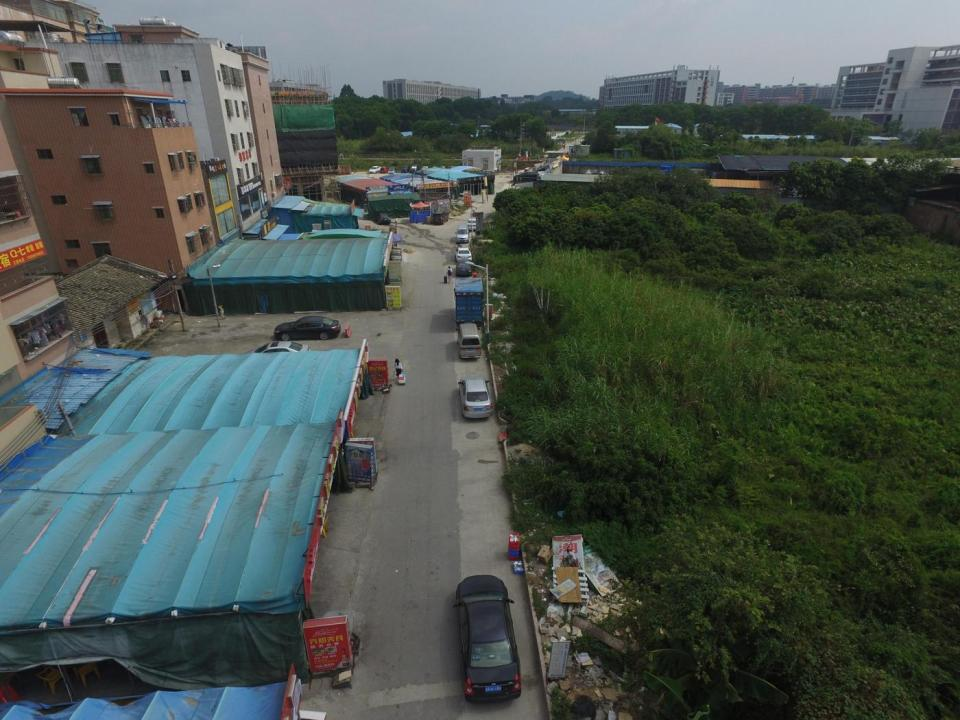bus: (549, 137, 567, 144)
car: (451, 574, 521, 703), (273, 314, 341, 342), (241, 341, 315, 364), (458, 376, 494, 420), (455, 258, 473, 276), (454, 245, 472, 262), (432, 209, 448, 226), (374, 212, 392, 226), (467, 218, 479, 232), (378, 165, 390, 173), (368, 166, 381, 173), (410, 164, 420, 173), (388, 165, 399, 173), (400, 166, 411, 174), (387, 170, 396, 178), (421, 164, 429, 173)
truck: (453, 277, 485, 326)
van: (454, 322, 483, 361), (455, 224, 469, 242)
